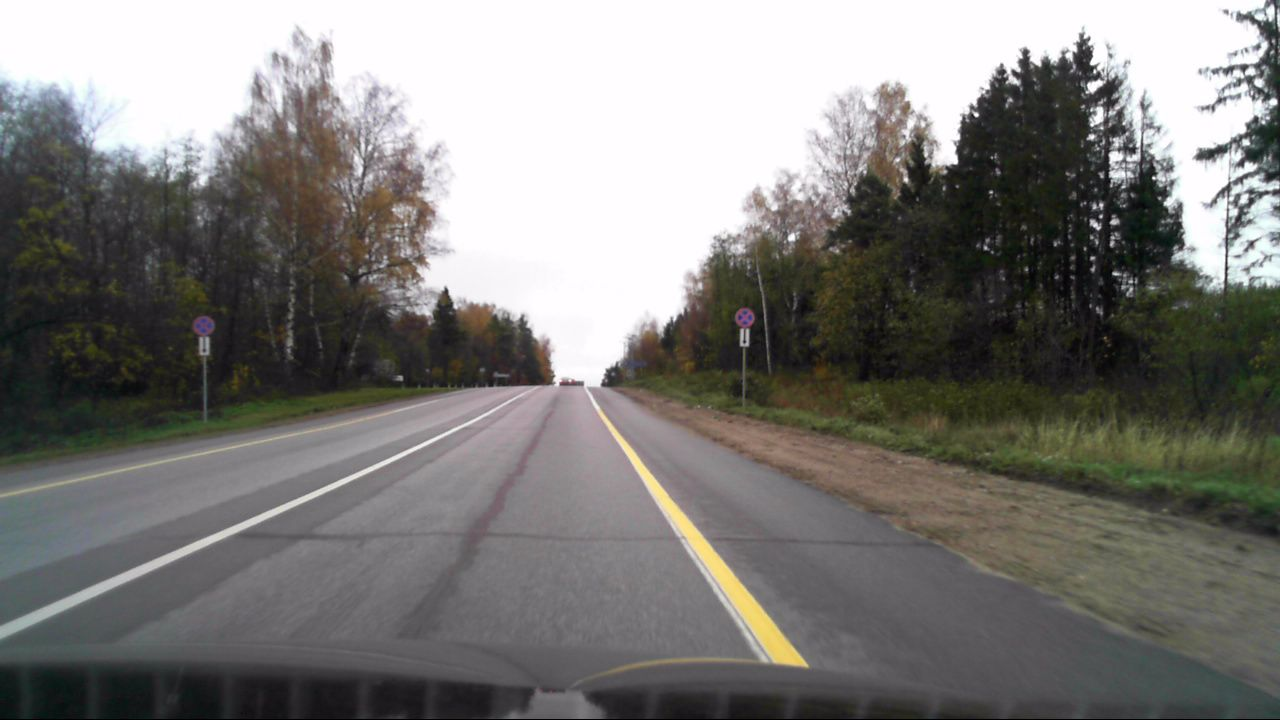No Parking: (193, 315, 215, 336)
